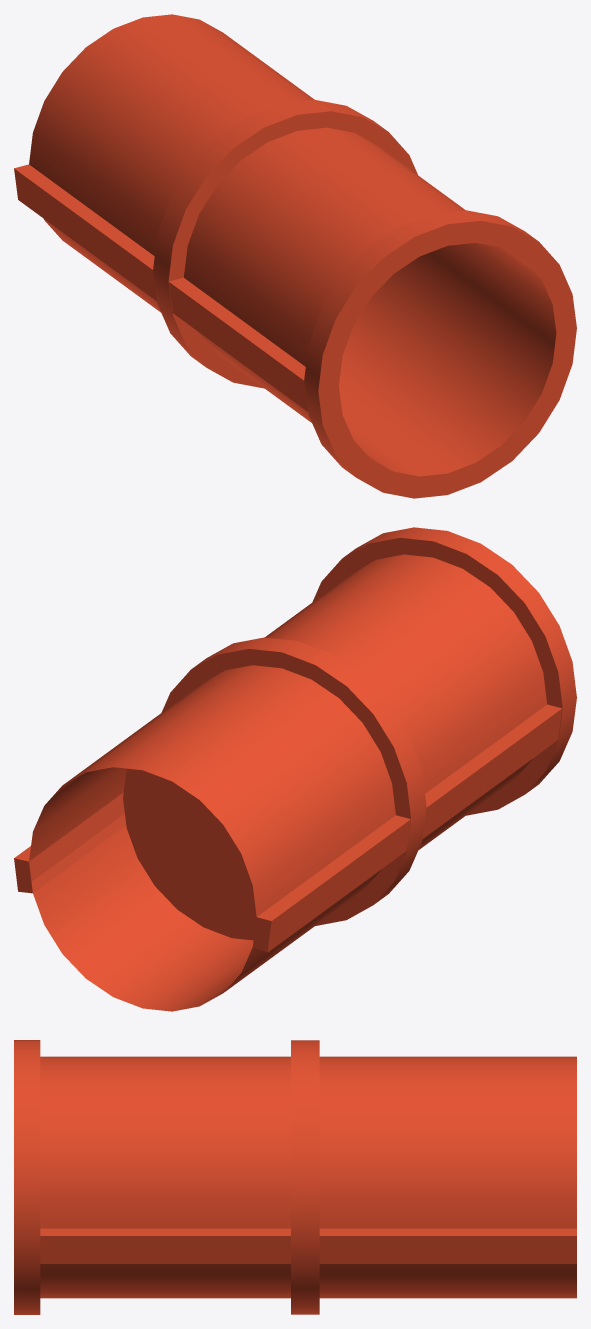
Rendered from exit_tube.fbx.
3 views of the same model, one above another, from view 1: azimuth 30°, elevation 25°; view 2: azimuth 150°, elevation 25°; view 3: azimuth 270°, elevation 25° (orthographic). The views are drawn at different scales.
Visible parts, largest first — view 1: exit_tube; view 2: exit_tube; view 3: exit_tube.
Part boxes in pixels (x1,y1,x2,y2): exit_tube: (14, 14, 576, 498); exit_tube: (14, 527, 576, 1011); exit_tube: (14, 1040, 576, 1314).
Size of the model in its own units: 284 by 284 by 580.
